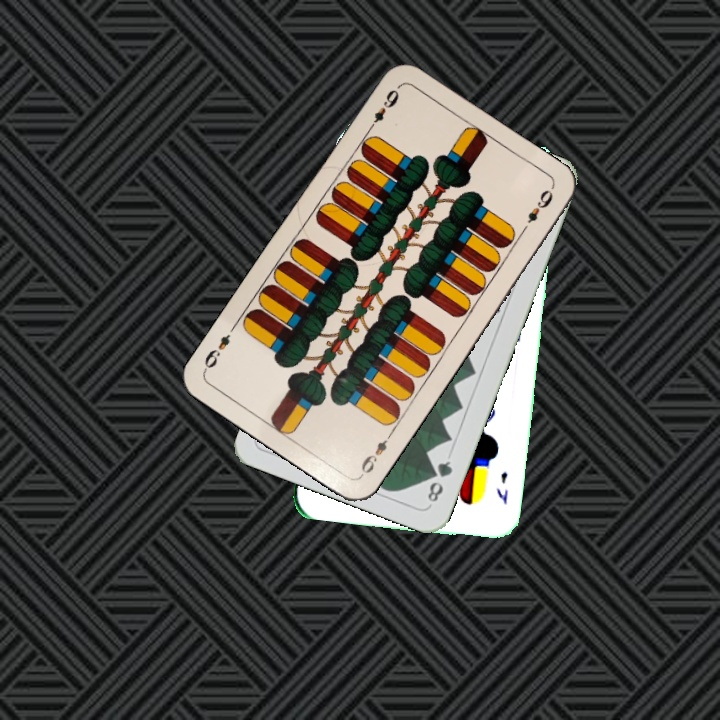E9: (356, 428, 396, 479), (364, 82, 403, 134)
EK: (492, 468, 511, 507)
G8: (423, 456, 455, 505)
